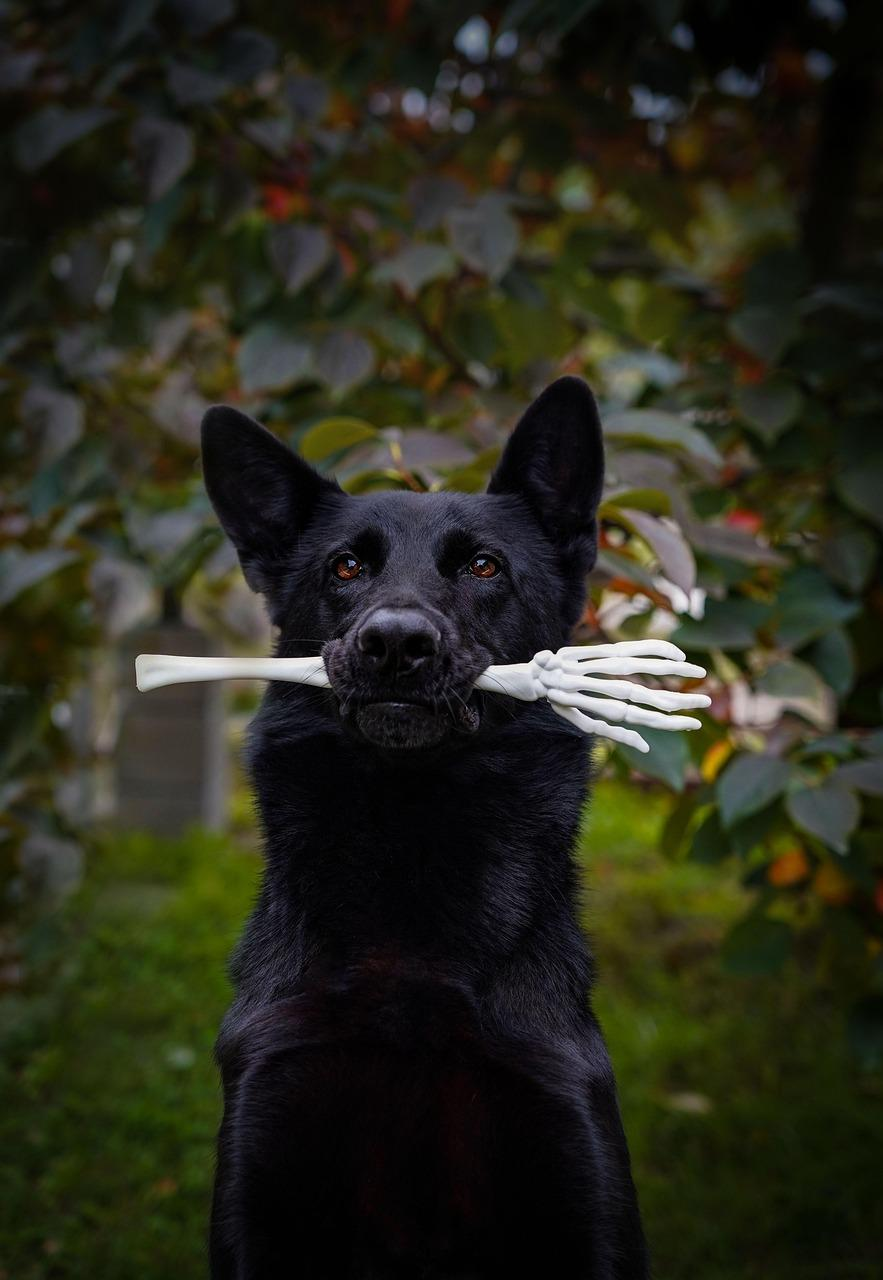german_shepherd: (208, 392, 611, 824)
